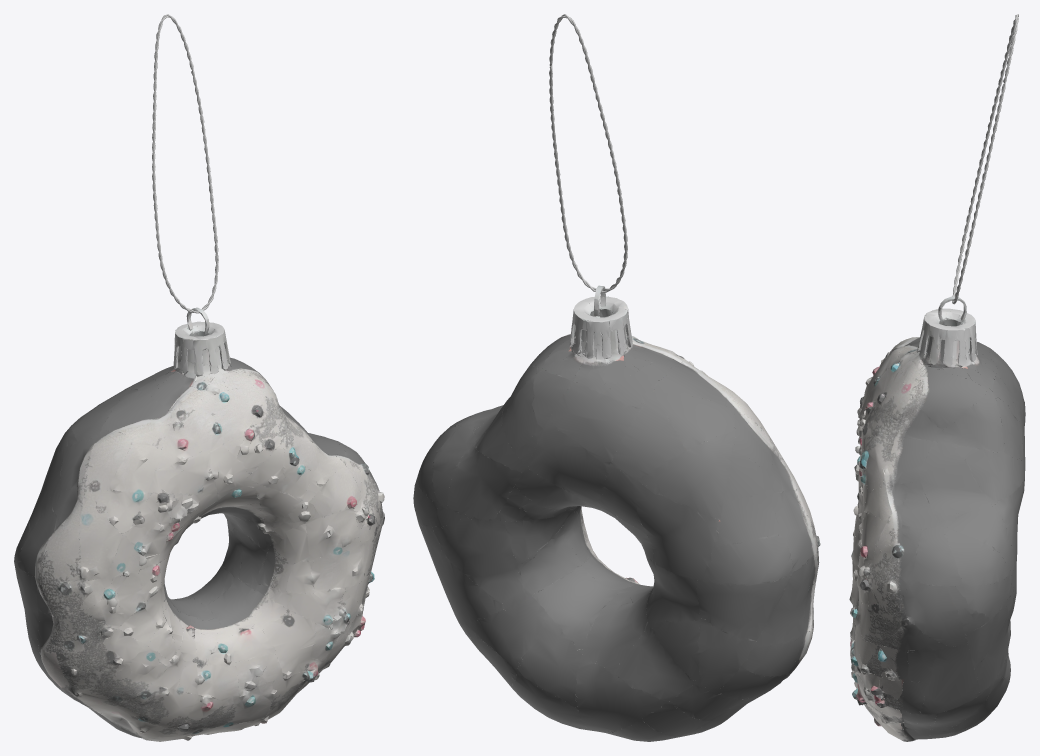
The model's file is metal_donut.glb.
The picture shows the model from 3 angles, left to right: view 1: azimuth 30°, elevation 25°; view 2: azimuth 150°, elevation 25°; view 3: azimuth 270°, elevation 25°; orthographic projection. The views are drawn at different scales.
Parts seen in each view (by area): view 1: mesh_0, GN Instance; view 2: mesh_0, GN Instance; view 3: mesh_0, GN Instance.
Part boxes in pixels (bbox=[...]): mesh_0: bbox=[14, 307, 384, 741]; GN Instance: bbox=[152, 14, 218, 313]; mesh_0: bbox=[413, 285, 820, 741]; GN Instance: bbox=[549, 14, 627, 293]; mesh_0: bbox=[849, 296, 1025, 741]; GN Instance: bbox=[952, 14, 1018, 304].
Bounding box in the file's own units: 0.0751 × 0.1411 × 0.0318.
2 materials, 1 textured.
